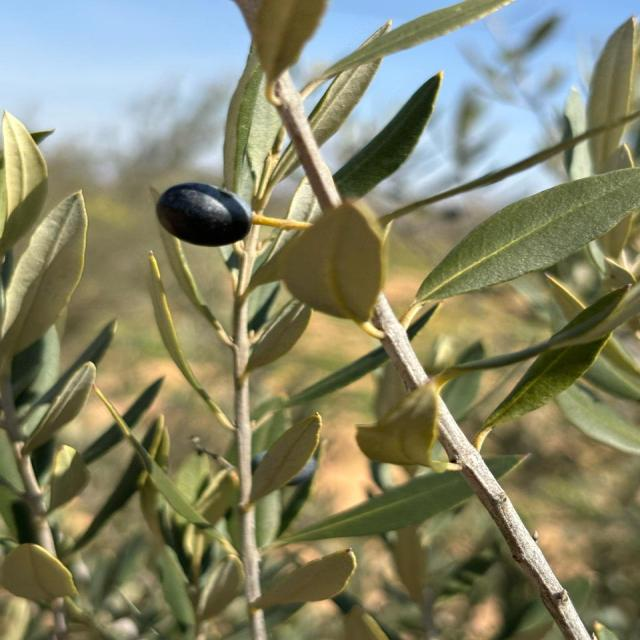Healthy: (411, 168, 639, 310), (0, 190, 87, 376), (251, 412, 322, 502), (156, 182, 251, 247)
